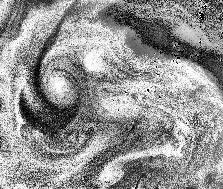CE: (29, 57, 88, 112)
